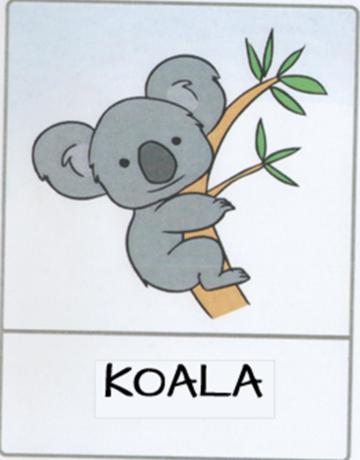koala: (10, 16, 336, 439)
